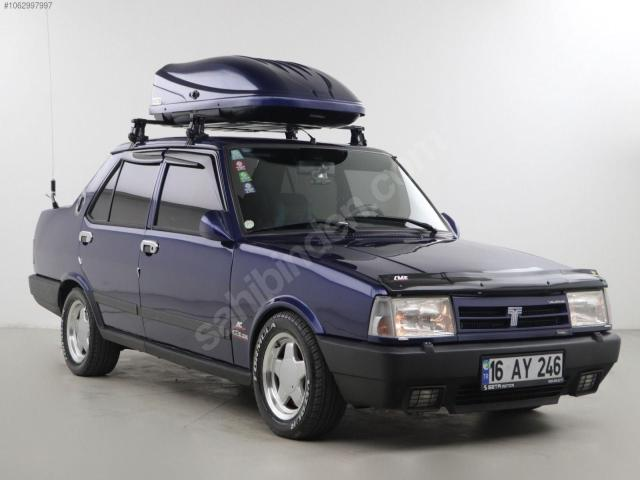plaka: (481, 353, 563, 391)
